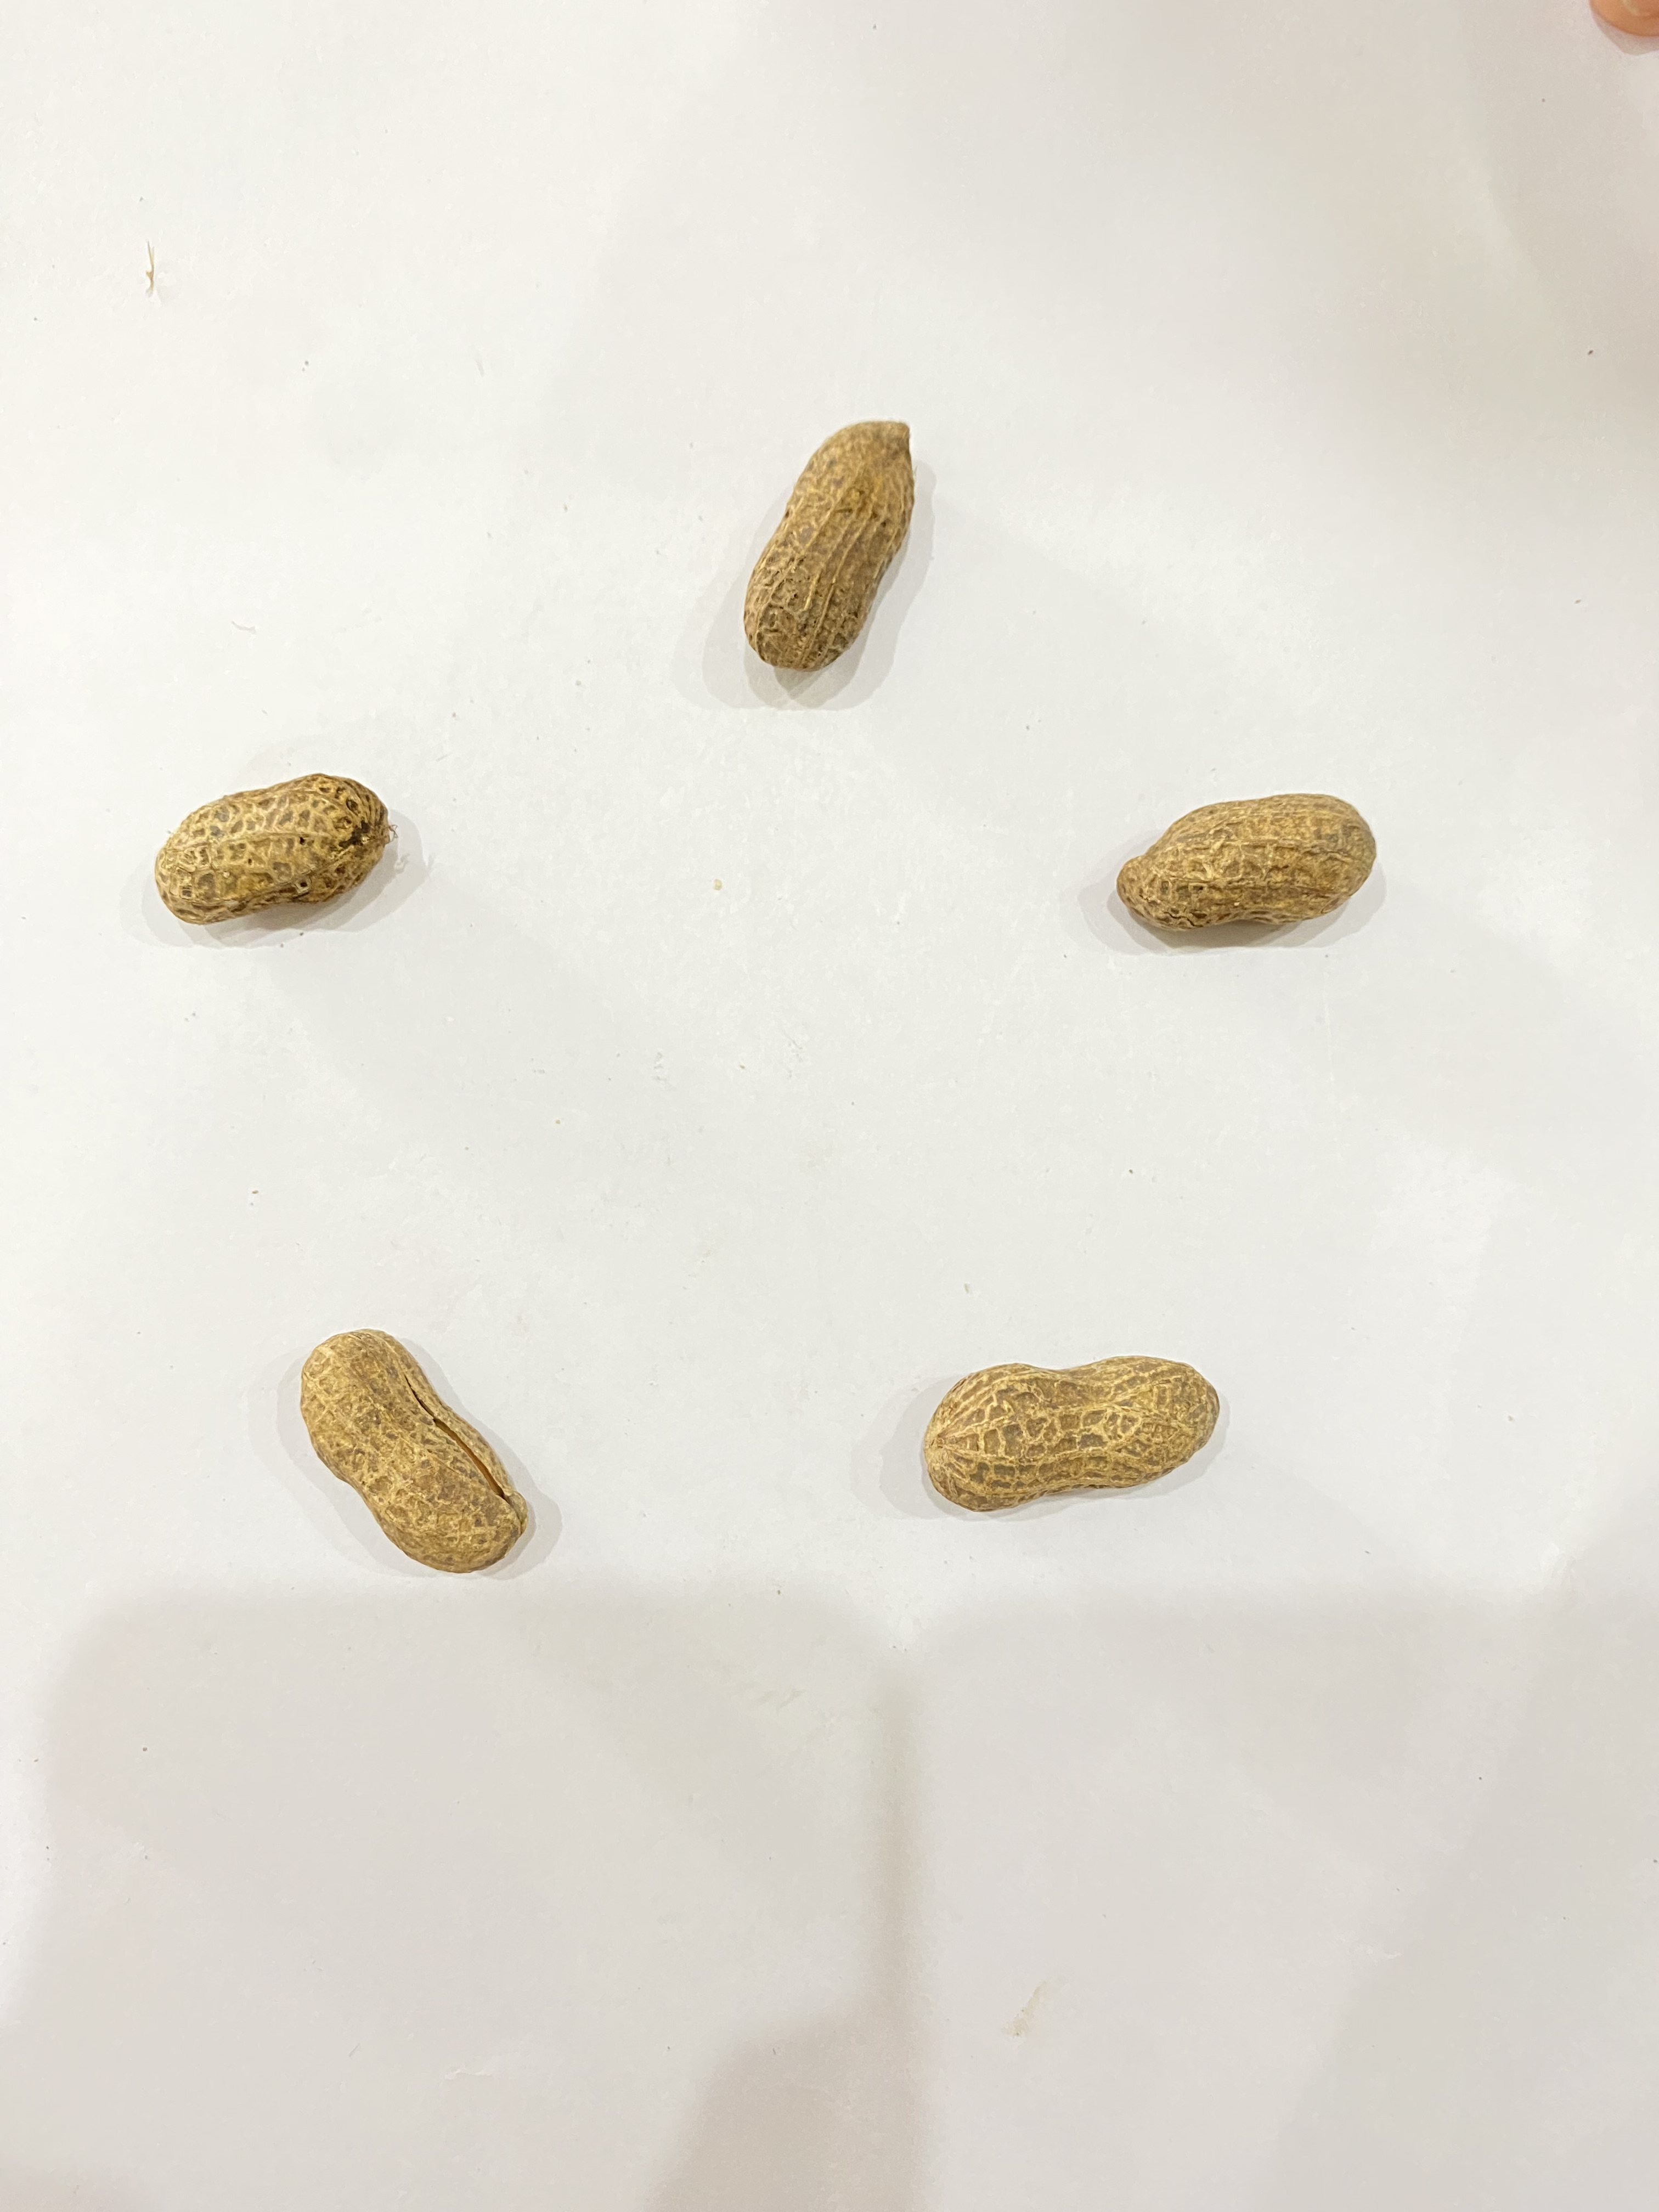kacang1: (1082, 763, 1394, 949), (138, 756, 403, 932)
kacang2: (267, 1324, 582, 1575), (899, 1350, 1232, 1524), (742, 385, 917, 678)
